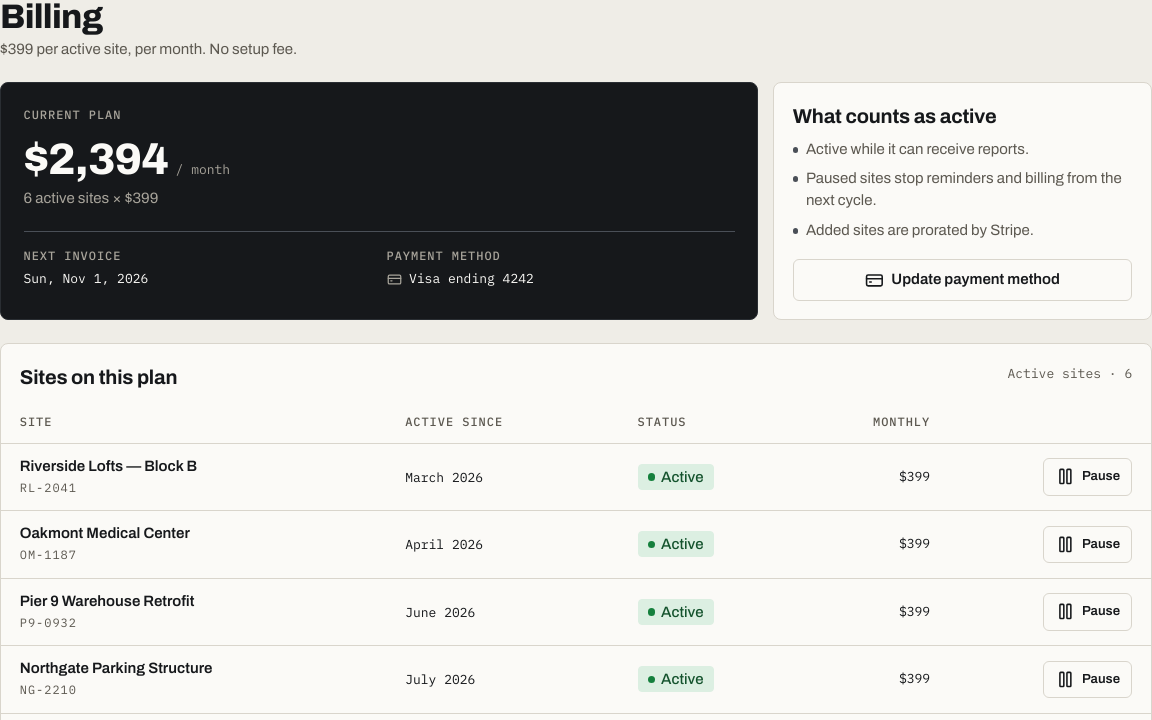
BillingPage (demo data) › pauses and resumes a site through the confirm dialog (F19)
Click the button with aria-label "Pause Riverside Lofts — Block B" at coordinates (1088, 477), box [1044,458,1132,496]
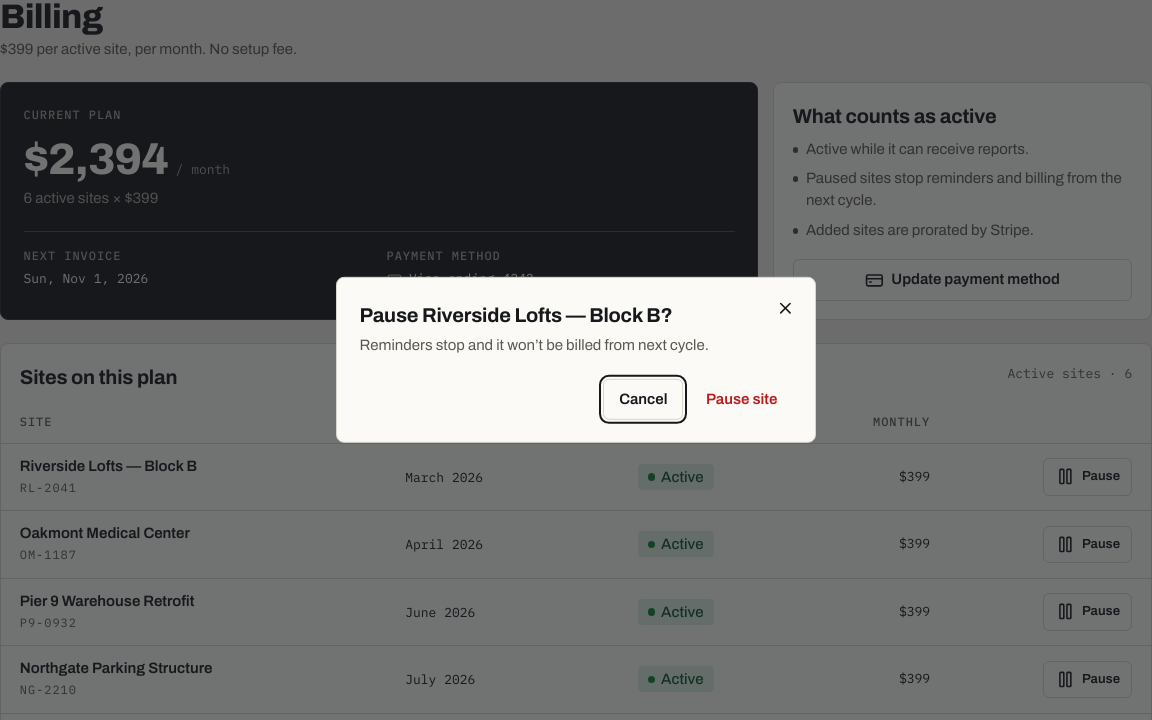
Result: the dialog shows "Pause Riverside Lofts — Block B?" at [360,303,672,325]
Result: the dialog shows "Reminders stop and it won’t be billed from next cycle." at [360,337,709,353]
Click the button "Pause site" at coordinates (742, 399), box [691,378,792,420]
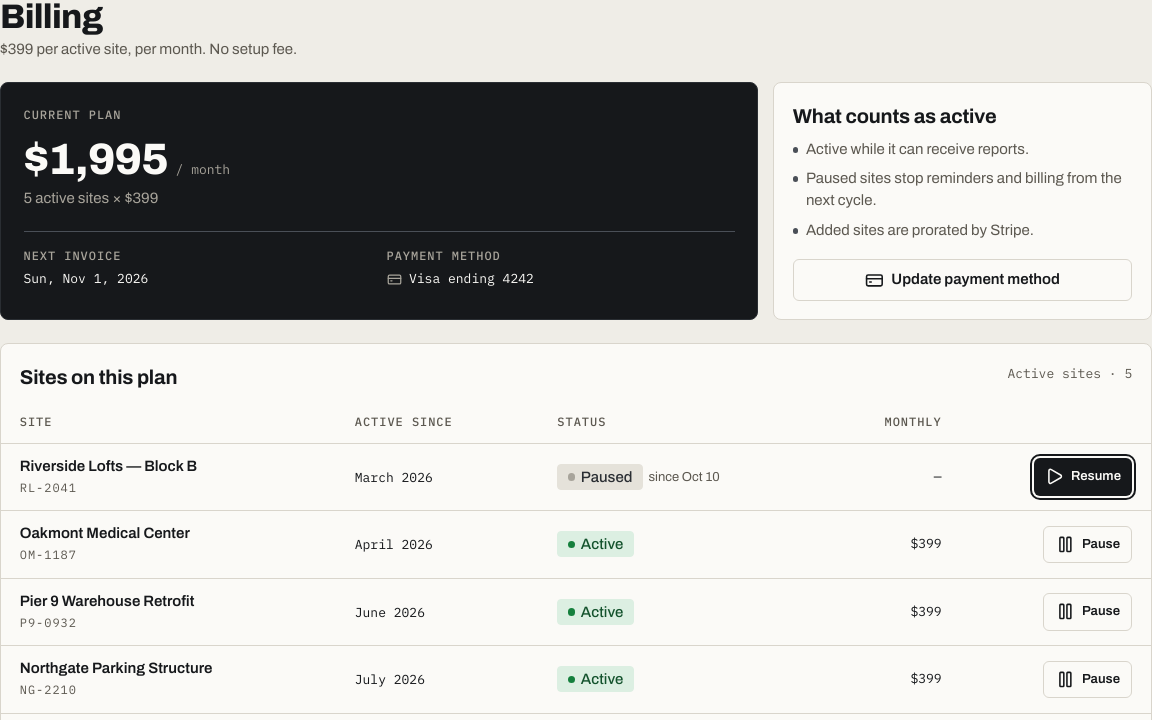
Result: the dialog is gone
Result: the text with test id "plan-total" reads "$1,995" at [24,135,168,183]
Result: the element with test id "plan-card" shows "5 active sites × $399" at [24,190,158,206]
Click the button with aria-label "Resume Riverside Lofts — Block B" at coordinates (1083, 477), box [1034,458,1132,496]
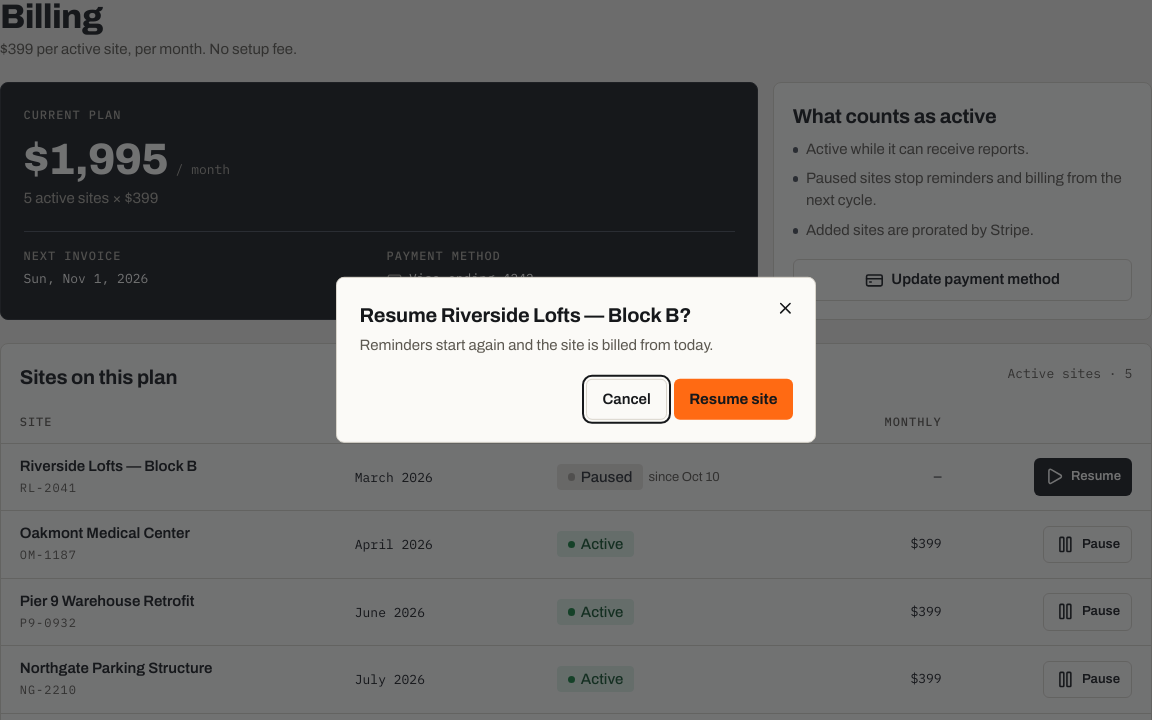
Click the button "Resume site" at coordinates (733, 399), box [674,378,792,420]
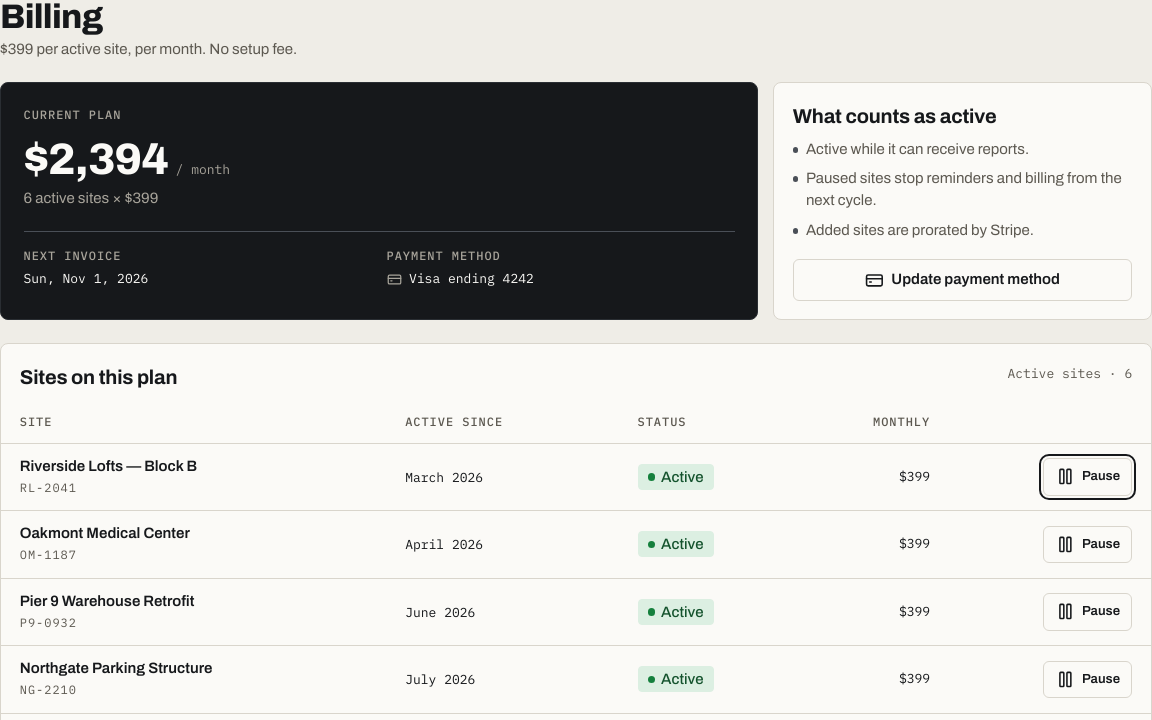
Result: the text with test id "plan-total" reads "$2,394" at [24,135,168,183]
